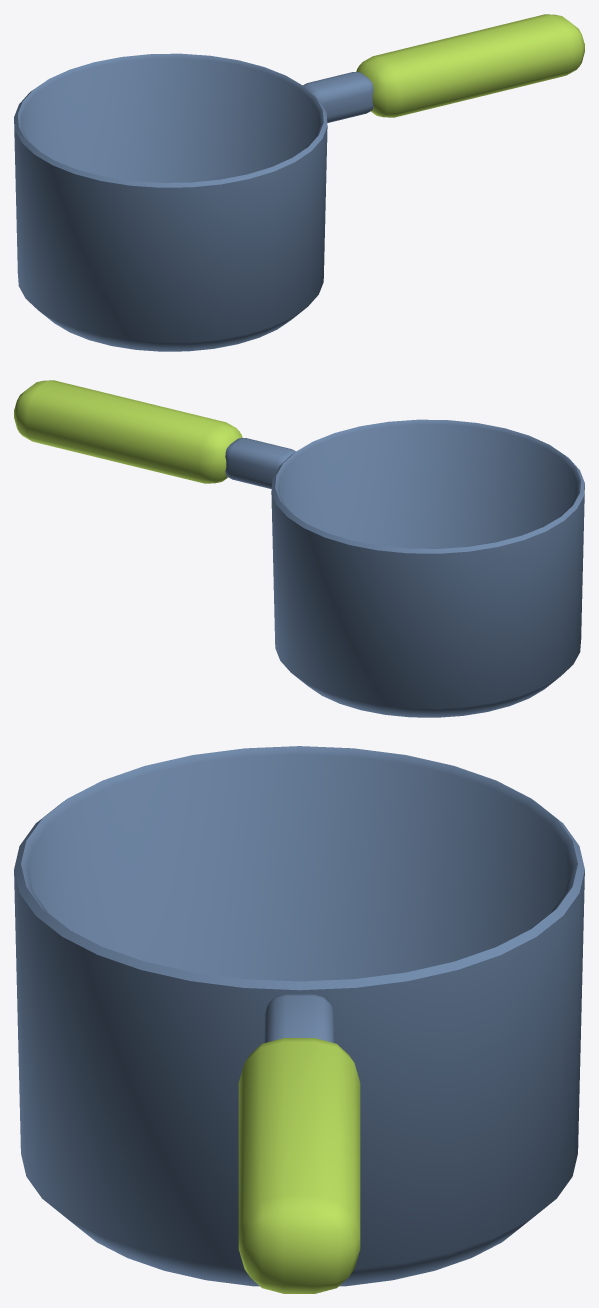
Rendered from panela_cabo_azul.glb.
3 renders of one model, top to bottom at view 1: azimuth 30°, elevation 25°; view 2: azimuth 150°, elevation 25°; view 3: azimuth 270°, elevation 25°, orthographic. The views are drawn at different scales.
Parts seen in each view (by area): view 1: panela_cabo_azul; view 2: panela_cabo_azul; view 3: panela_cabo_azul.
Boxes of the visible parts, x1,y1,x2,y2 form: panela_cabo_azul: (14, 14, 584, 351); panela_cabo_azul: (14, 380, 584, 717); panela_cabo_azul: (14, 746, 584, 1293).
Bounding box in the file's own units: 0.327 × 0.105 × 0.164.
Materials: 1 (1 with a texture image).
